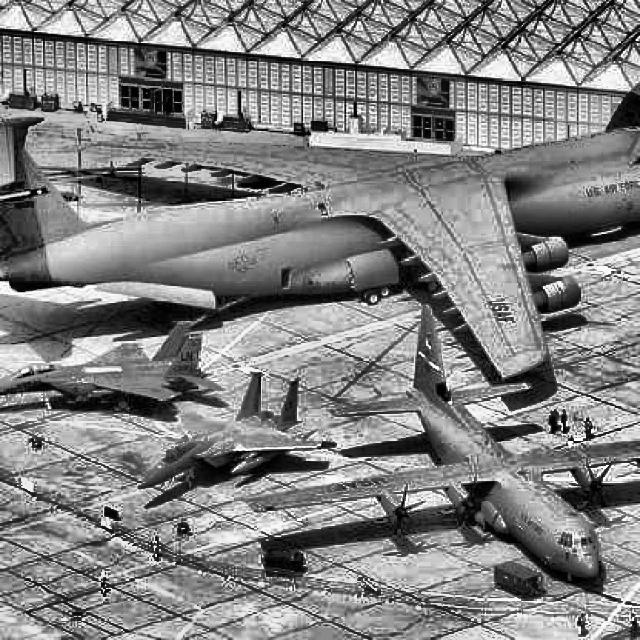C130: (244, 305, 639, 583)
C5: (1, 116, 639, 382)
F15: (136, 370, 324, 490), (2, 318, 225, 412)
